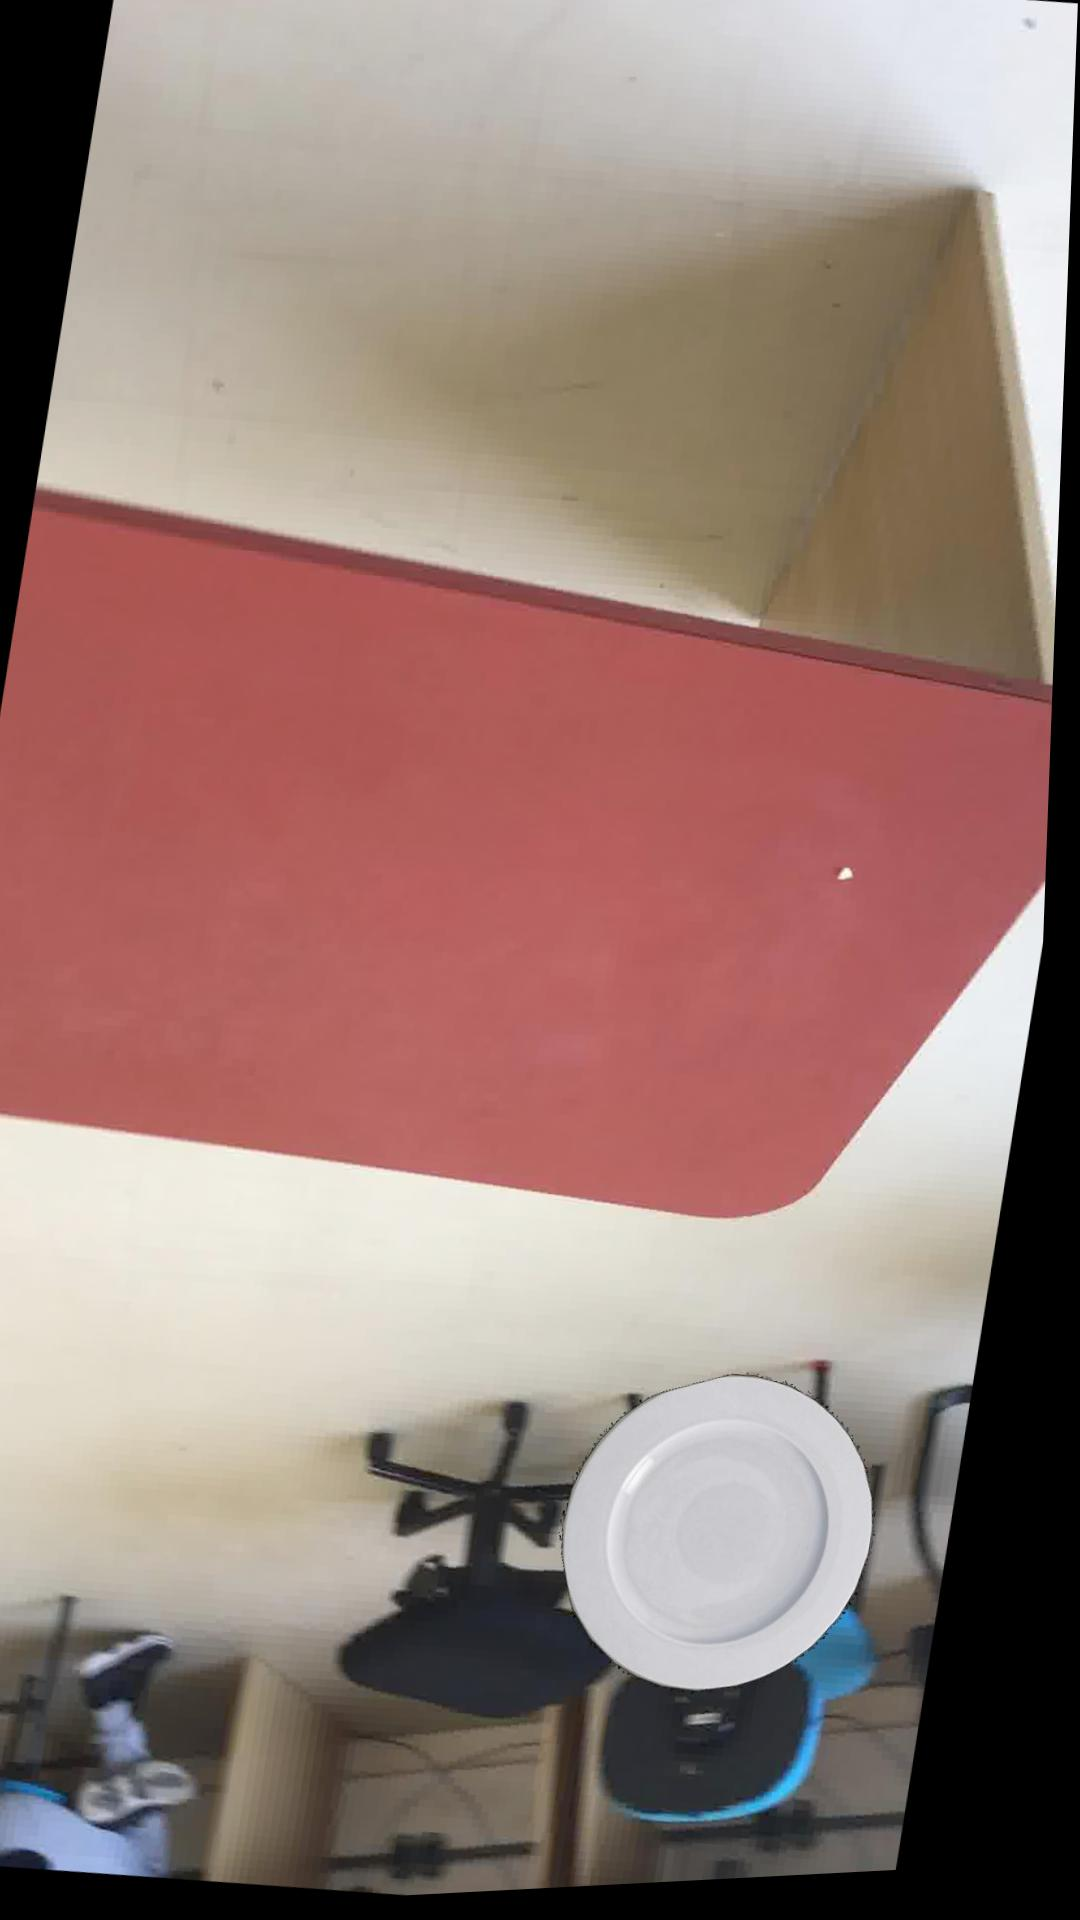plate: (571, 1385, 885, 1702)
